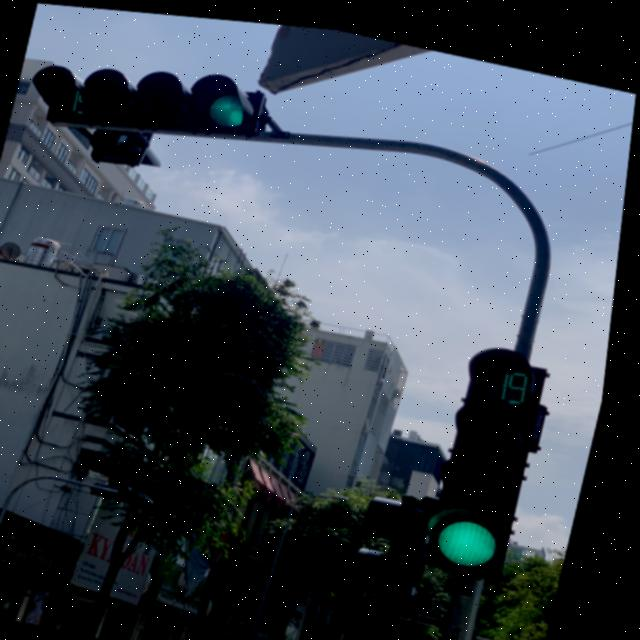Green: (417, 387, 561, 578), (65, 38, 287, 155), (425, 617, 486, 640)
